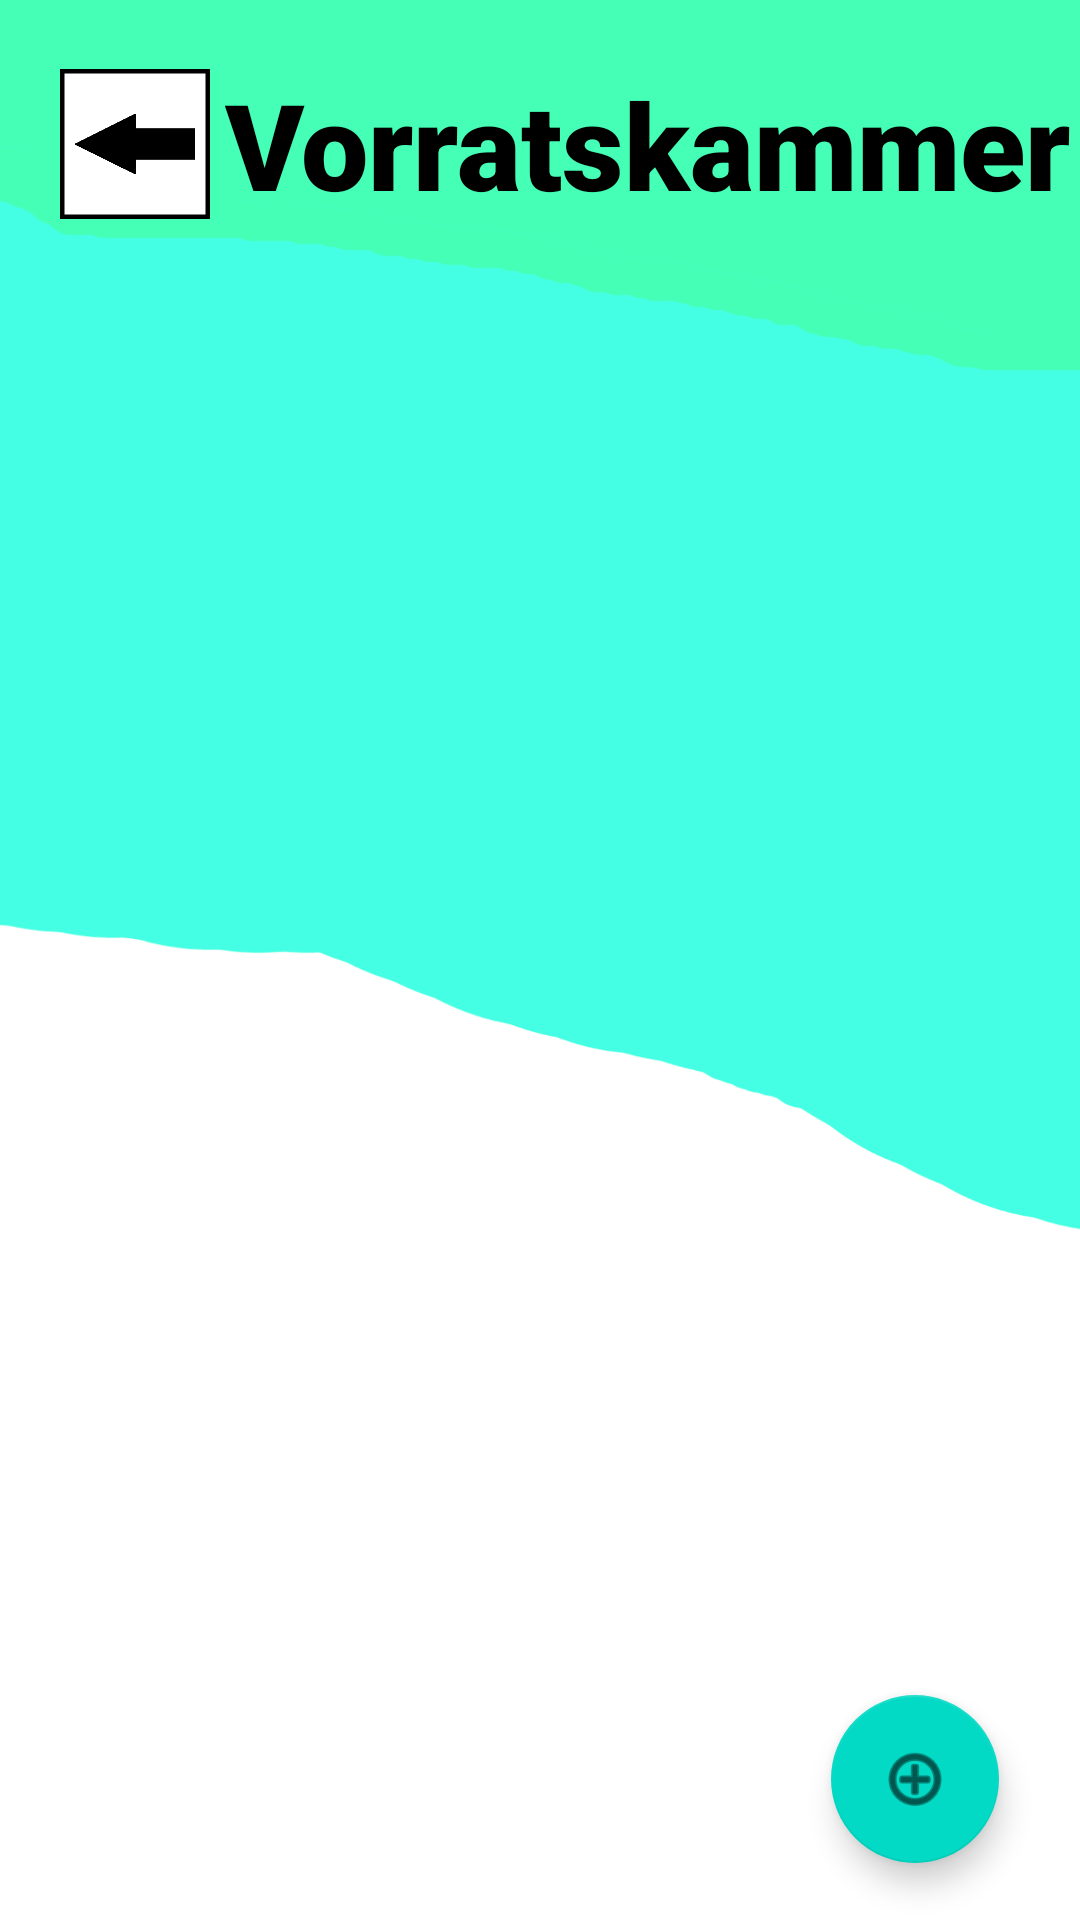

Icons on this 1080*1920 Android screen, each with its box as box(x1, y1, x2, y2):
add: box(831, 1695, 999, 1863)
zurueck: box(60, 69, 210, 219)
